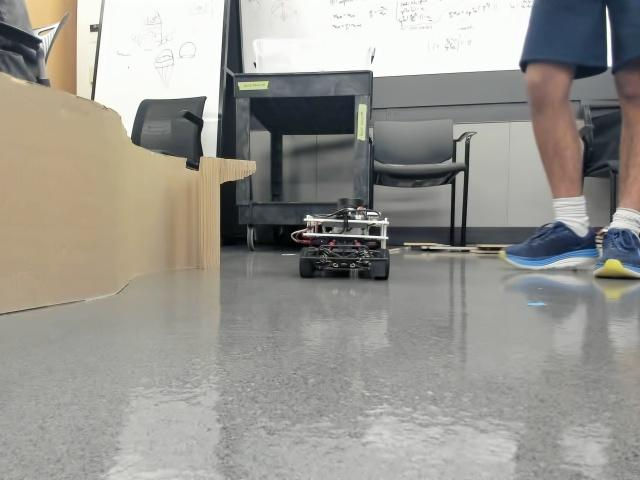Car: (291, 192, 389, 282)
